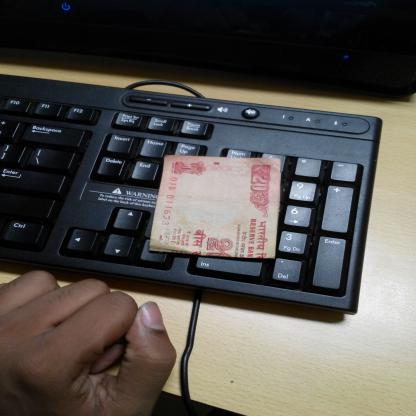Old20Front: (155, 157, 276, 257)
